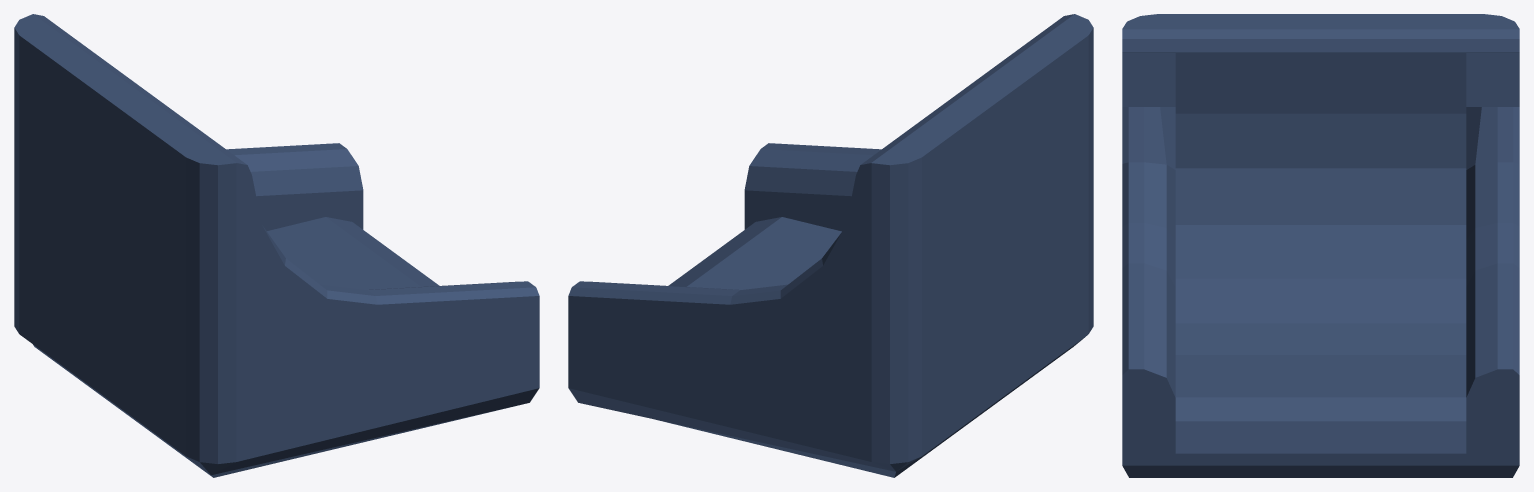
The model's file is chair.fbx.
3 renders of one model, left to right at view 1: azimuth 30°, elevation 25°; view 2: azimuth 150°, elevation 25°; view 3: azimuth 270°, elevation 25°, orthographic. The views are drawn at different scales.
Visible parts, largest first — view 1: Cube; view 2: Cube; view 3: Cube.
Boxes of the visible parts, left/top/right/bottom form: Cube: left=14, top=14, right=539, bottom=477; Cube: left=568, top=14, right=1093, bottom=477; Cube: left=1122, top=14, right=1519, bottom=477.
Bounding box in the file's own units: 15200 × 13927 × 16000.
